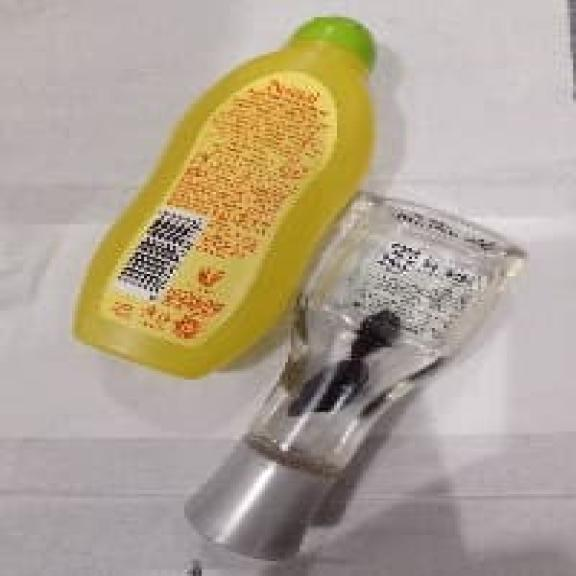Plastik: (186, 194, 524, 560), (78, 18, 375, 378)
